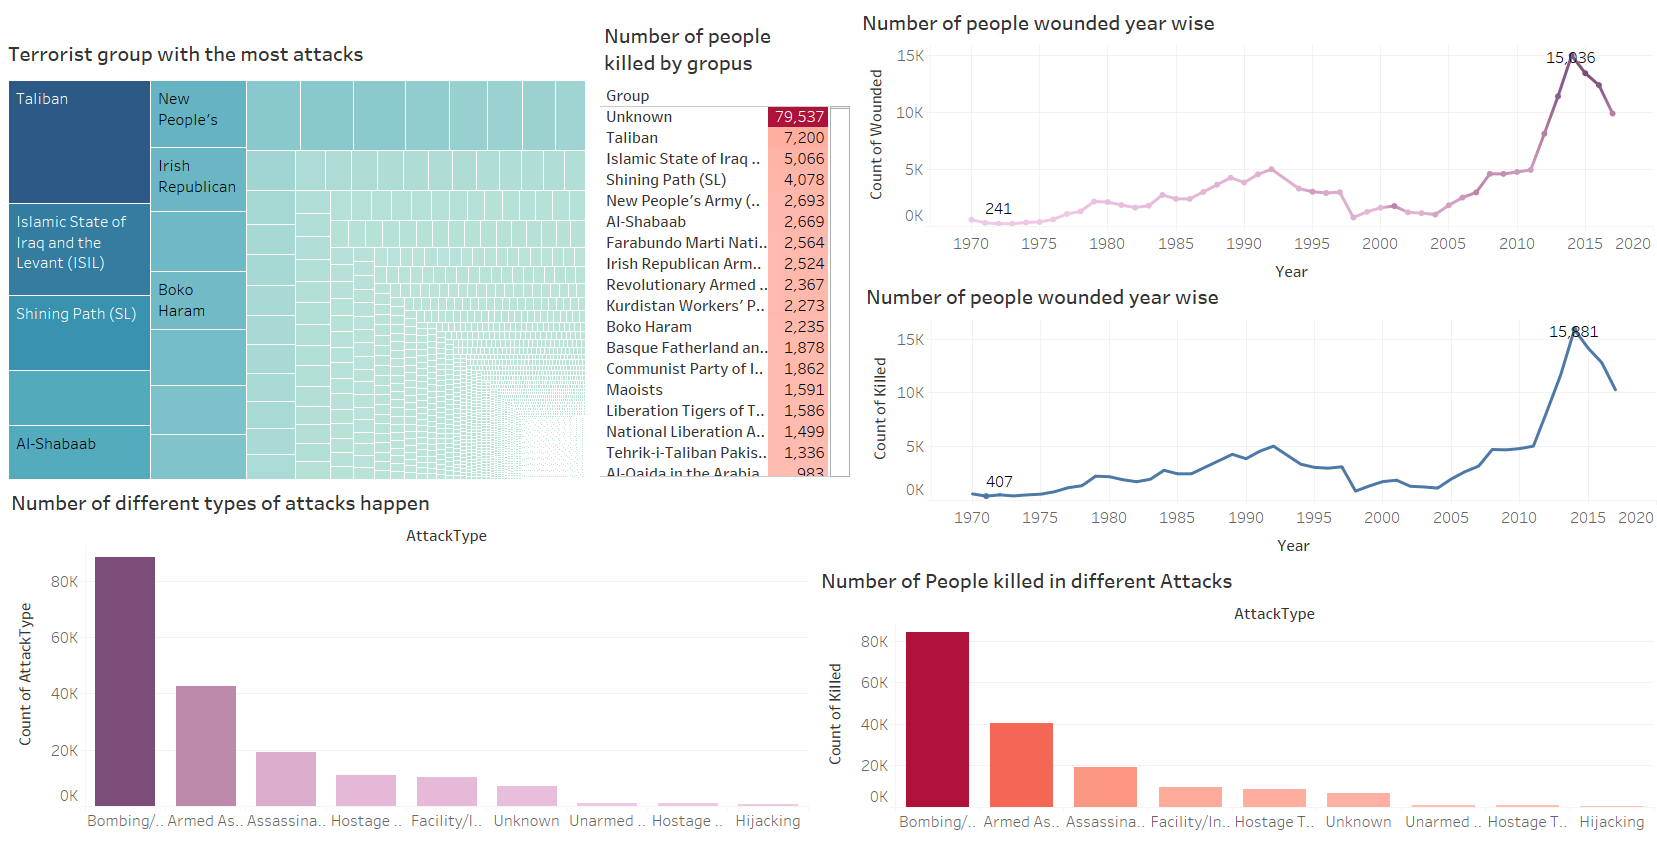

The dashboard page shown, as its layout file describes it:
{"tool":"tableau","page":{"name":"Dashboard 2","canvas":[1000,1000],"units":"permille","ordinal":1},"visuals":[{"type":"worksheet","title":"Sheet 12","mark":"Automatic","rows":["nwound"],"cols":["iyear"],"box":[517.8,2.3,479.8,333.3]},{"type":"worksheet","title":"Sheet 10","mark":"Square","rows":["gname"],"box":[362.1,17.4,159.3,536.6]},{"type":"worksheet","title":"Sheet 7","mark":"Automatic","box":[2.4,38.3,353.1,531.9]},{"type":"worksheet","title":"Sheet 11","mark":"Line","rows":["nkill"],"cols":["iyear"],"box":[520.2,320.6,479.2,333.3]},{"type":"worksheet","title":"Sheet 8","mark":"Bar","rows":["attacktype1_txt"],"cols":["attacktype1_txt"],"box":[4.2,559.8,483.4,422.8]},{"type":"worksheet","title":"Sheet 13","mark":"Automatic","rows":["nkill"],"cols":["attacktype1_txt"],"box":[493.1,650.4,505.1,333.3]}]}

Visuals, with their boxes on the dashboard's canvas, which has no fixed pixel size, in thousandths of its width and height (x1, y1, x2, y2). These are canvas units, not pixel positions in the 1657x861 screenshot, which may show the page scaled, cropped or inside an application window:
"Sheet 12" worksheet: 518, 2, 998, 336
"Sheet 10" worksheet (Square marks): 362, 17, 521, 554
"Sheet 7" worksheet: 2, 38, 356, 570
"Sheet 11" worksheet (Line marks): 520, 321, 999, 654
"Sheet 8" worksheet (Bar marks): 4, 560, 488, 983
"Sheet 13" worksheet: 493, 650, 998, 984
